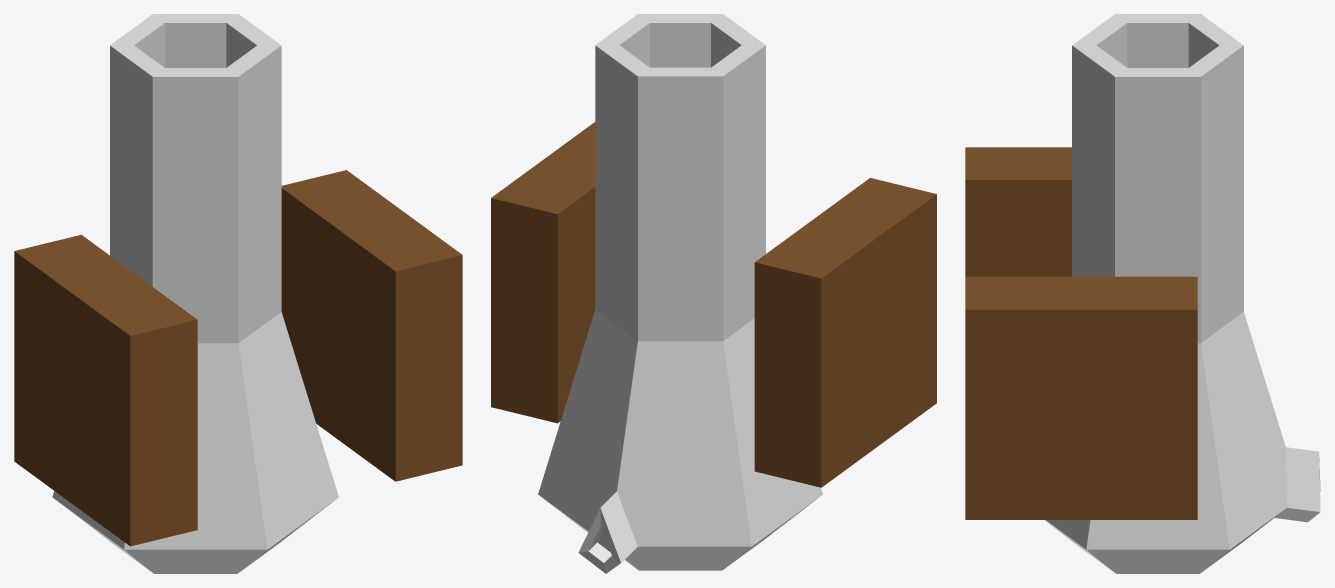
The model's file is cannon 1.fbx.
3 views of the same model, side by side, from view 1: azimuth 30°, elevation 25°; view 2: azimuth 150°, elevation 25°; view 3: azimuth 270°, elevation 25° (orthographic).
Visible parts, largest first — view 1: Cannon; view 2: Cannon; view 3: Cannon.
Boxes of the visible parts, bbox=[...] form: Cannon: bbox=[14, 14, 462, 573]; Cannon: bbox=[491, 14, 936, 573]; Cannon: bbox=[965, 14, 1320, 573].
Bounding box in the file's own units: 223 × 319 × 206.
